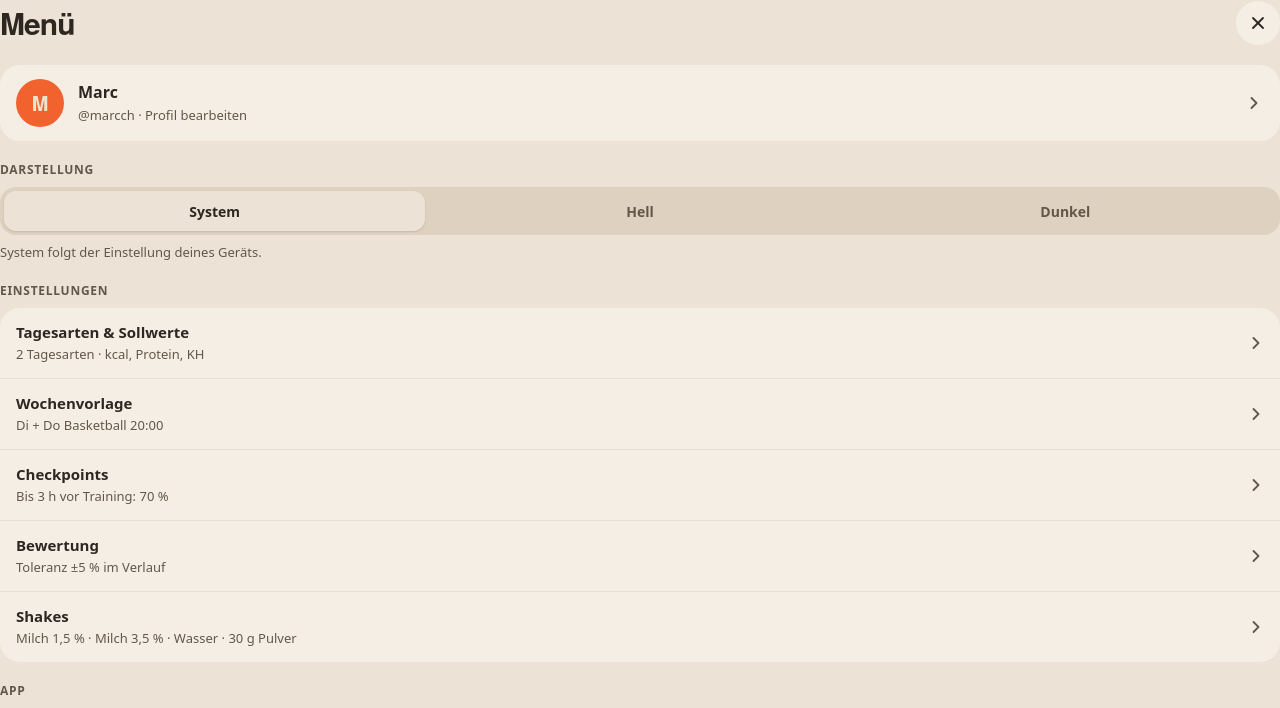
Test: Menu and settings (7.1) › changes one weekday of the week template
The width and height of the screenshot is (1280, 708).
Click the button "Wochenvorlage Di + Do Basketball 20:00" at (74, 403), box [0,379,1279,450]
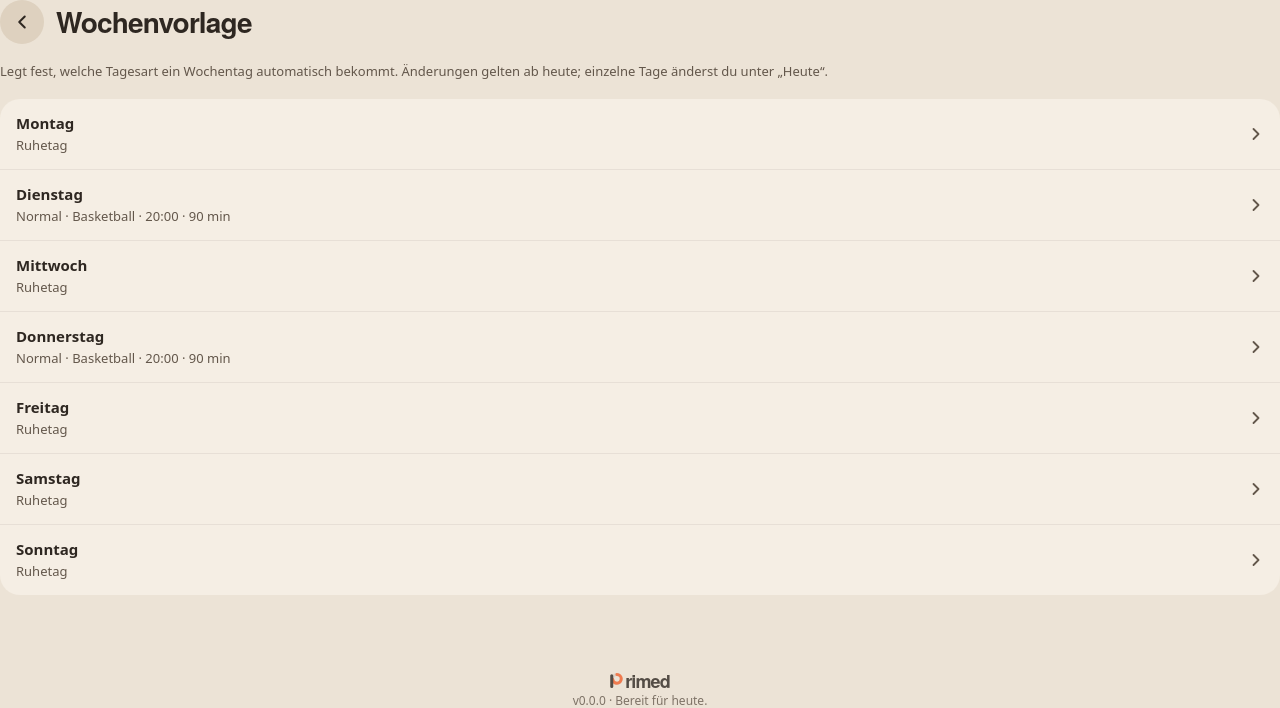
Click the button "Mittwoch Ruhetag" at (52, 265), box [0,241,1279,312]
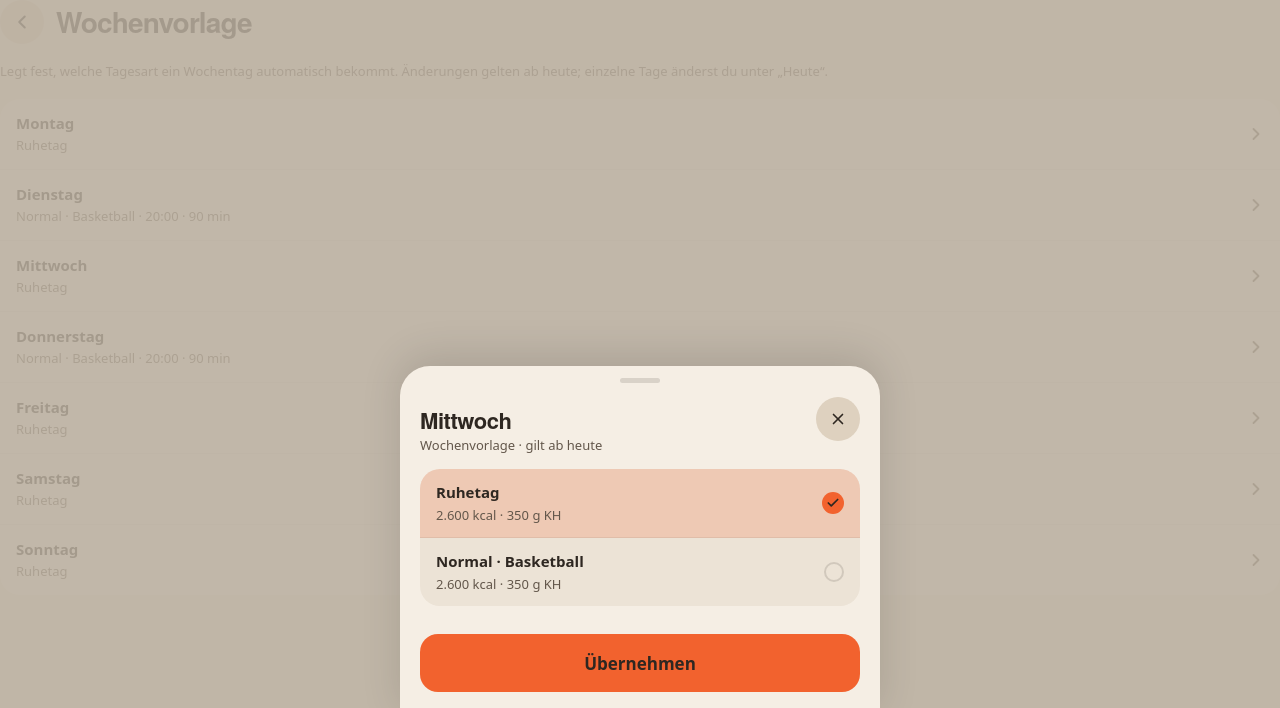
Click the button "Normal · Basketball 2.600 kcal · 350 g KH" at (510, 561), box [420,538,860,606]
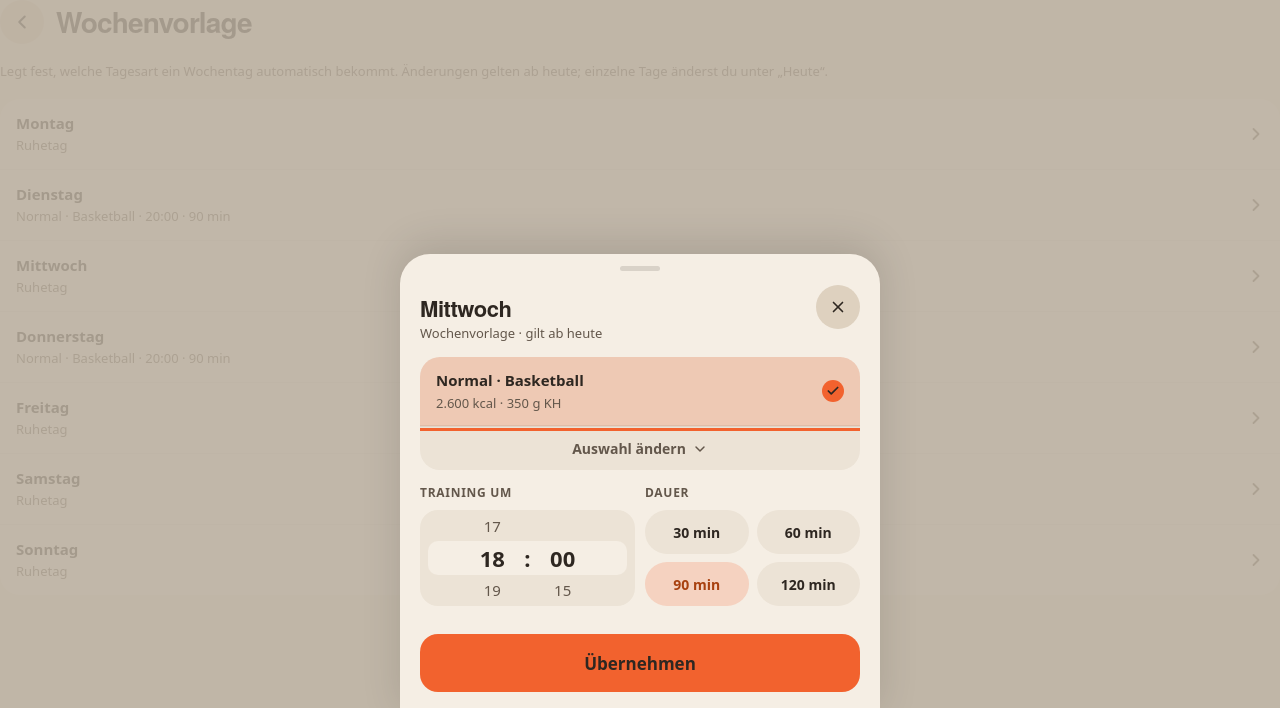
Click the button "Übernehmen" at (640, 663), box [420,634,860,692]
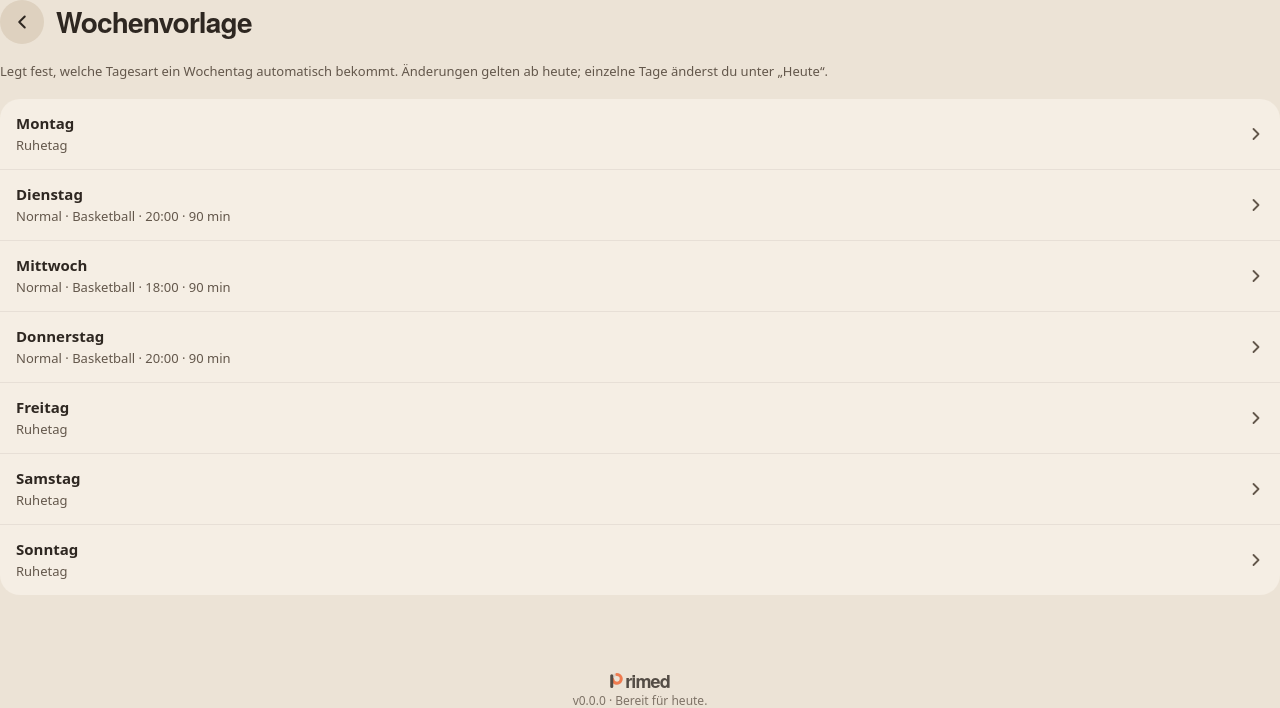
Expected: the text "Normal · Basketball · 18:00 · 90 min" is shown, [16,278,231,296]
